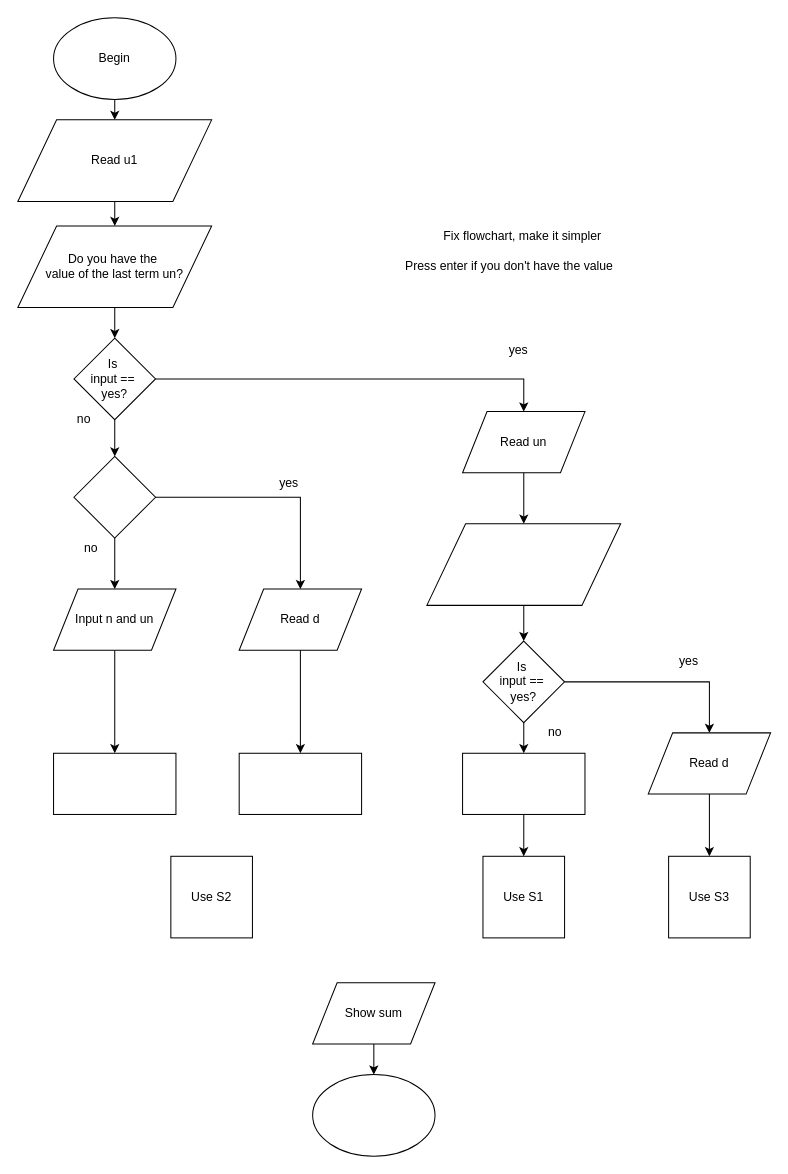
Image size: 788x1174. Some labels were removed from this diagram. The shapes that lost their labels are listed below. From the top down, each one's box as (x1, y1, x2, y2) in pixels, then its label:
(73, 455, 156, 538): Do you have d?
(426, 523, 621, 605): Do you have the value of the difference d?
(53, 752, 176, 814): Calcular d
(238, 752, 362, 814): Calcular n
(462, 752, 585, 814): Ask user to input n
(312, 1074, 435, 1156): End
